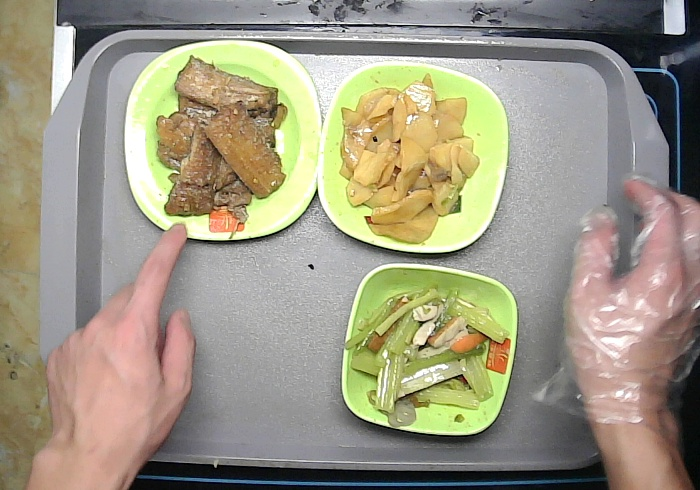SHKJ-Lv_Se_Cai_Die: (318, 60, 509, 255)
SHKJ-Lv_Se_Si_Fang_Cai_Die: (124, 38, 323, 241)
SHKJ-Lv_Se_Xiao_Fang_Die: (341, 261, 517, 435)
